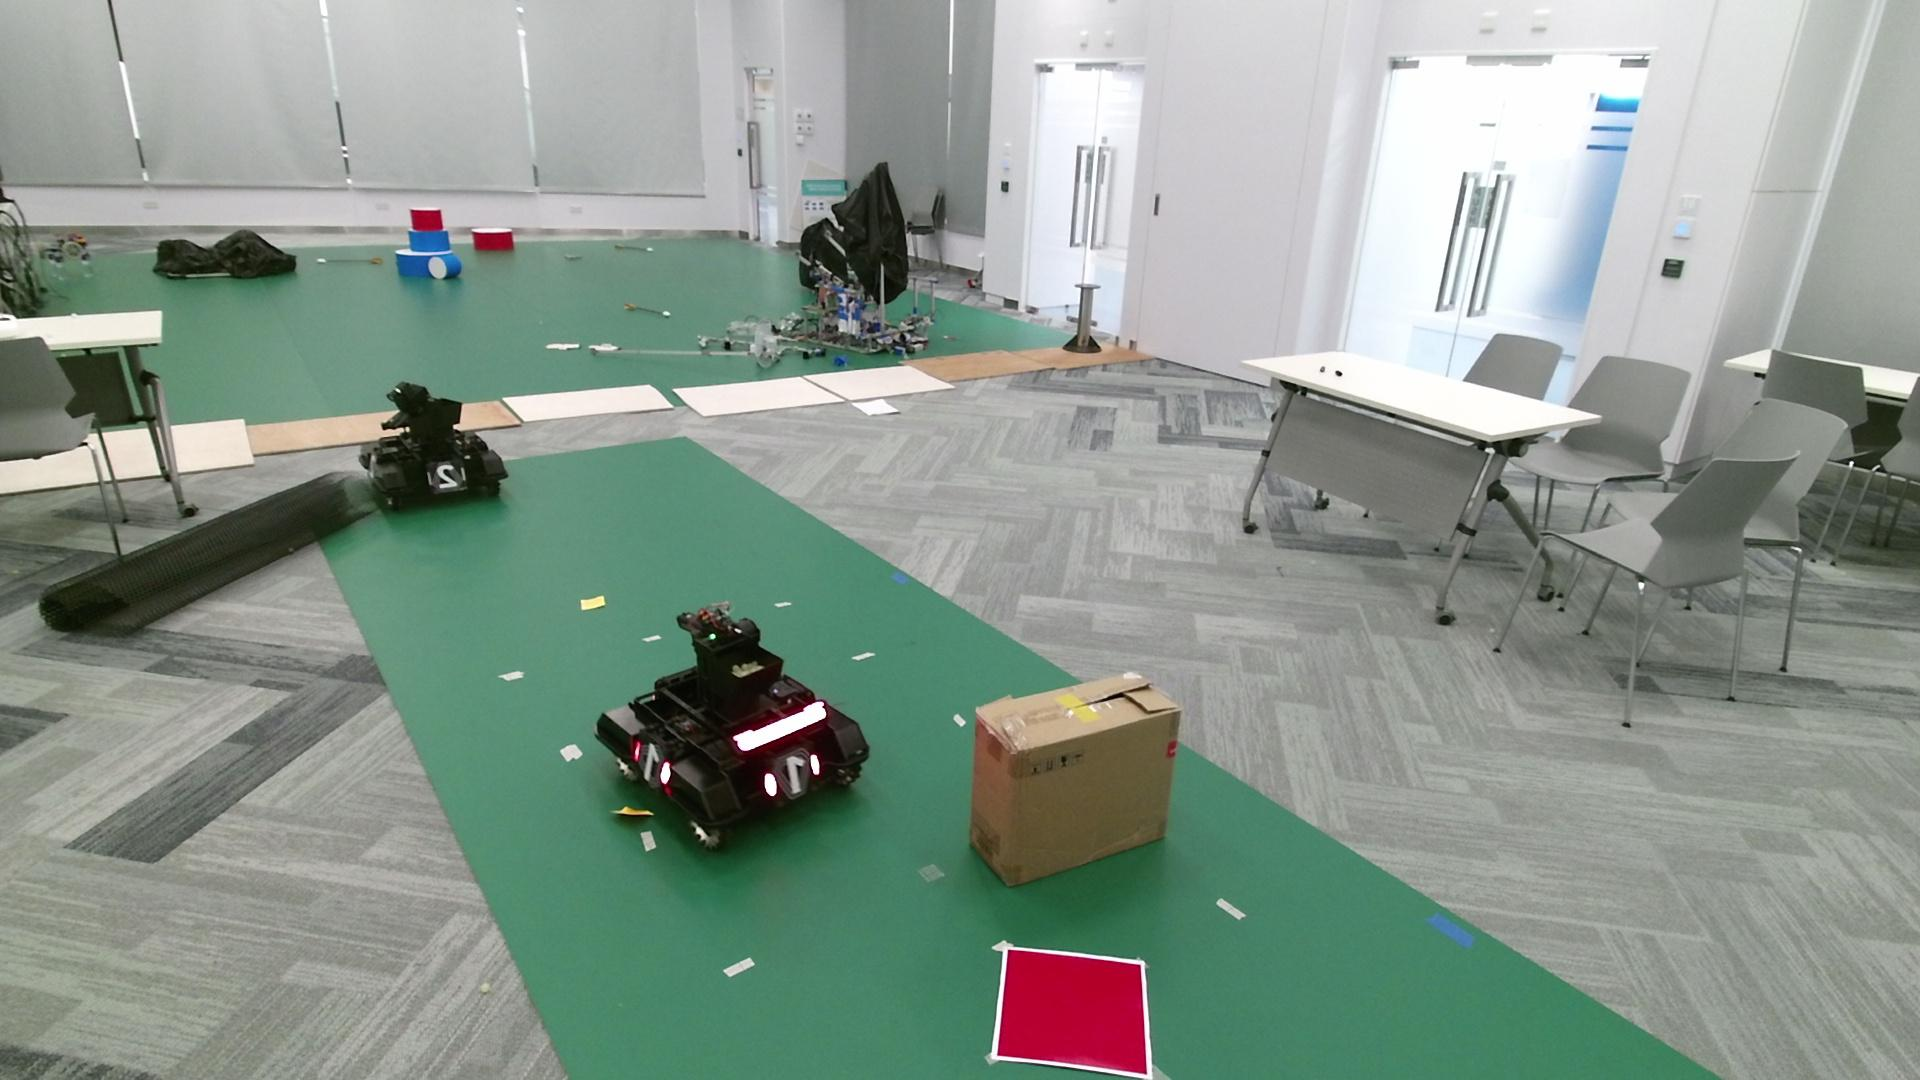robot: (593, 603, 872, 853), (357, 380, 510, 512)
